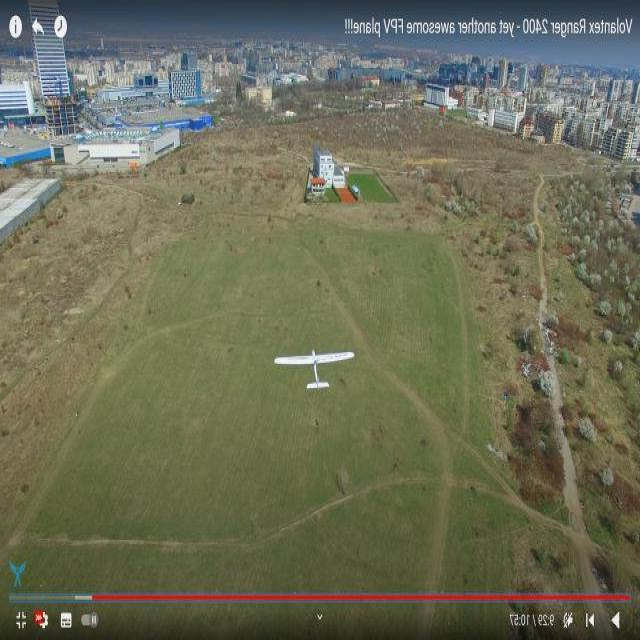UAV: (264, 332, 352, 414)
